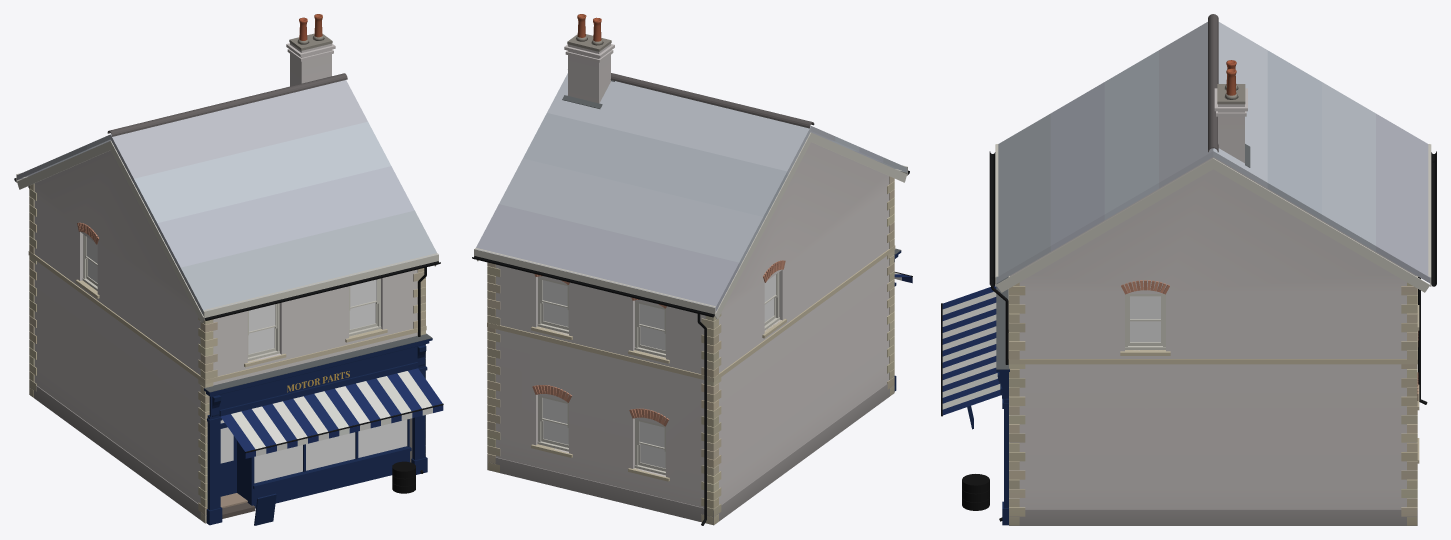
The model's file is town_shop_b_lod1.glb.
3 renders of one model, left to right at view 1: azimuth 30°, elevation 25°; view 2: azimuth 150°, elevation 25°; view 3: azimuth 270°, elevation 25°, orthographic. The views are drawn at different scales.
Parts seen in each view (by area): view 1: body; view 2: body; view 3: body.
Boxes of the visible parts, bbox=[...] form: body: bbox=[14, 14, 443, 525]; body: bbox=[472, 14, 912, 525]; body: bbox=[941, 14, 1436, 525].
Size of what is drawn, in the model's own units: 6.98 by 10.95 by 10.96.
